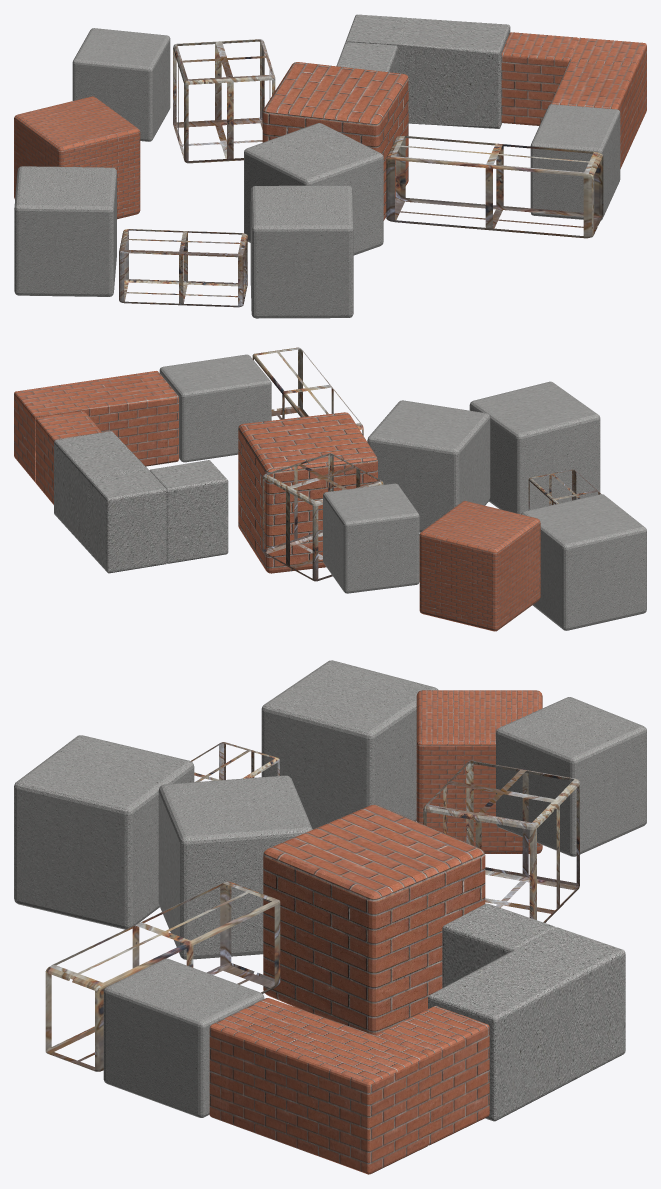
Rendered from yuanbai-perception-sculpture.glb.
The picture shows the model from 3 angles, top to bottom: view 1: azimuth 30°, elevation 25°; view 2: azimuth 150°, elevation 25°; view 3: azimuth 270°, elevation 25°; orthographic projection. The views are drawn at different scales.
Visible parts, largest first — view 1: Cube.007, 立方体.001, Cube.009, 立方体, Cube.005, Cube.004, Cube.003, Cube.010, Cube.011, Cube.002, Cube.001, Cube.008; view 2: 立方体.001, Cube.005, Cube.003, Cube.009, Cube.007, 立方体, Cube.004, Cube.010, Cube.011, Cube.001, Cube.002, Cube.008; view 3: Cube.005, 立方体, 立方体.001, Cube.007, Cube.009, Cube.004, Cube.010, Cube.011, Cube.003, Cube.002, Cube.001, Cube.008.
Part boxes in pixels (x1,y1,x2,y2): Cube.007: (250, 185, 353, 318); 立方体.001: (336, 14, 510, 128); Cube.009: (14, 166, 116, 296); 立方体: (501, 32, 646, 168); Cube.005: (262, 62, 408, 220); Cube.004: (244, 123, 383, 255); Cube.003: (14, 96, 140, 219); Cube.010: (72, 28, 170, 141); Cube.011: (530, 104, 620, 220); Cube.002: (386, 136, 603, 238); Cube.001: (173, 39, 275, 163); Cube.008: (119, 229, 247, 307); 立方体.001: (54, 431, 228, 573); Cube.005: (238, 412, 377, 573); Cube.003: (419, 501, 540, 631); Cube.009: (521, 494, 646, 630); Cube.007: (469, 381, 600, 514); 立方体: (14, 371, 178, 504); Cube.004: (367, 400, 490, 532); Cube.010: (323, 483, 419, 593); Cube.011: (159, 354, 271, 462); Cube.001: (262, 453, 383, 581); Cube.002: (252, 347, 363, 435); Cube.008: (528, 469, 600, 510); Cube.005: (263, 804, 485, 1035); 立方体: (209, 998, 489, 1174); 立方体.001: (428, 903, 625, 1121); Cube.007: (14, 735, 194, 929); Cube.009: (261, 660, 438, 829); Cube.004: (158, 775, 312, 959); Cube.010: (496, 697, 646, 856); Cube.011: (103, 958, 264, 1117); Cube.003: (416, 690, 542, 853); Cube.002: (45, 881, 280, 1071); Cube.001: (423, 760, 579, 922); Cube.008: (190, 742, 279, 782).
Bounding box in the file's own units: 12.28 × 2.44 × 7.84.
5 materials, 5 textured.
